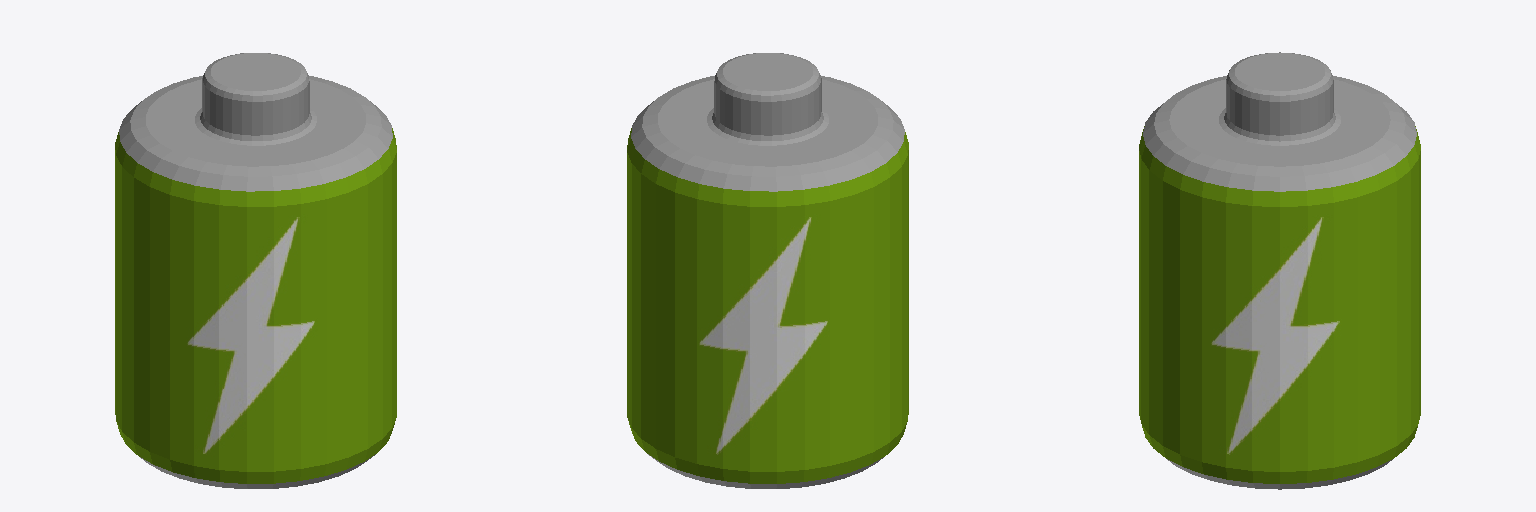
3 renders of one model, left to right at view 1: azimuth 30°, elevation 25°; view 2: azimuth 150°, elevation 25°; view 3: azimuth 270°, elevation 25°, orthographic.
Parts seen in each view (by area): view 1: Battery; view 2: Battery; view 3: Battery.
Part boxes in pixels (left/top/right/bottom): Battery: left=115, top=53, right=396, bottom=488; Battery: left=627, top=53, right=908, bottom=488; Battery: left=1139, top=52, right=1420, bottom=489.
Bounding box in the file's own units: 0.08 × 0.115 × 0.08.
Materials: 2 (1 with a texture image).